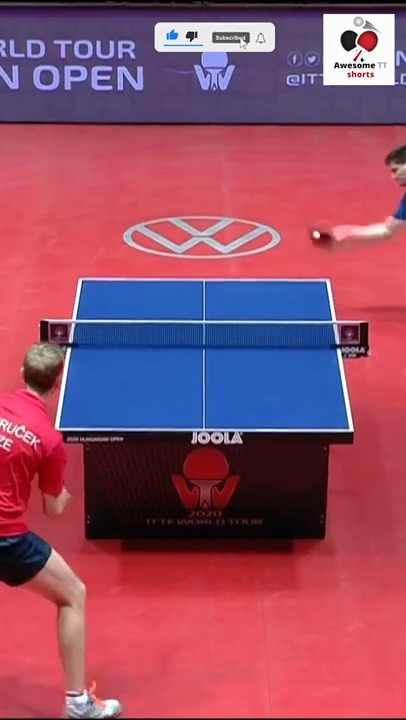Ball: (312, 229, 321, 240)
